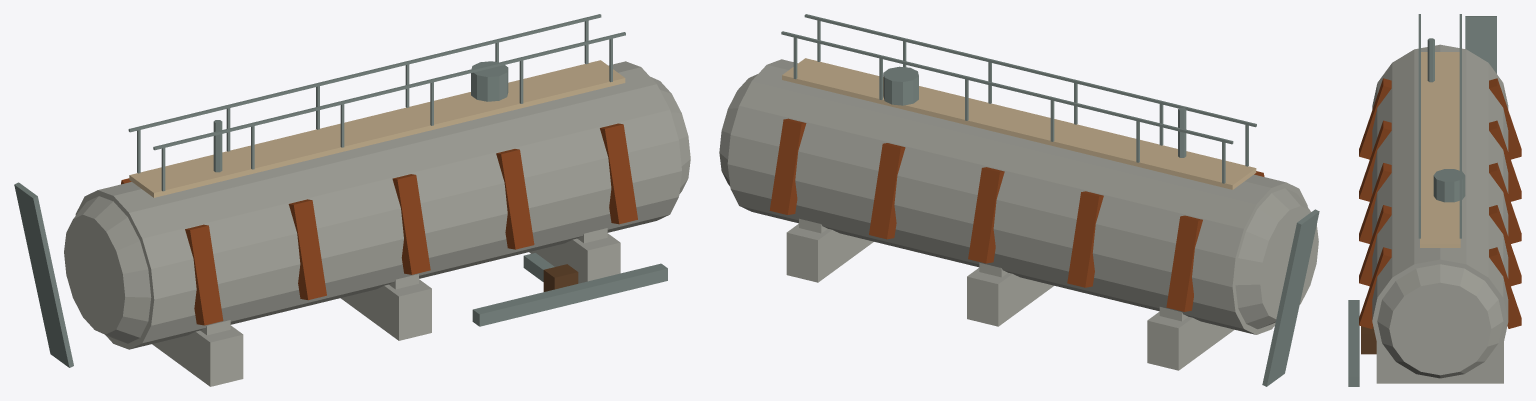
The model's file is SM_TanqueCombustible_v3_LOD0.fbx.
3 views of the same model, side by side, from view 1: azimuth 30°, elevation 25°; view 2: azimuth 150°, elevation 25°; view 3: azimuth 270°, elevation 25° (orthographic). The views are drawn at different scales.
Visible parts, largest first — view 1: SM_tanque_combustible_v3_LOD0; view 2: SM_tanque_combustible_v3_LOD0; view 3: SM_tanque_combustible_v3_LOD0.
Part boxes in pixels (x1,y1,x2,y2): SM_tanque_combustible_v3_LOD0: [14, 14, 690, 386]; SM_tanque_combustible_v3_LOD0: [719, 14, 1319, 386]; SM_tanque_combustible_v3_LOD0: [1348, 14, 1521, 386].
Bounding box in the file's own units: 12.98 × 4.7 × 3.81.
